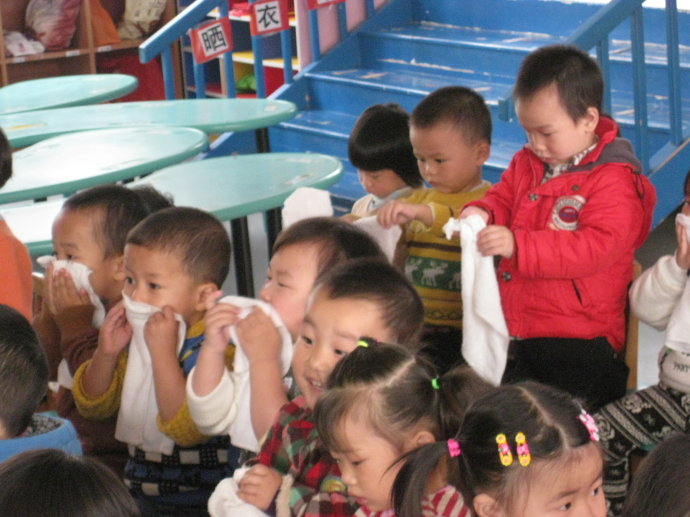face: (293, 315, 382, 406), (327, 408, 394, 510), (517, 446, 613, 516), (53, 212, 113, 306), (258, 240, 313, 337), (121, 242, 181, 323), (516, 95, 585, 162), (411, 127, 465, 192), (357, 159, 398, 200)
